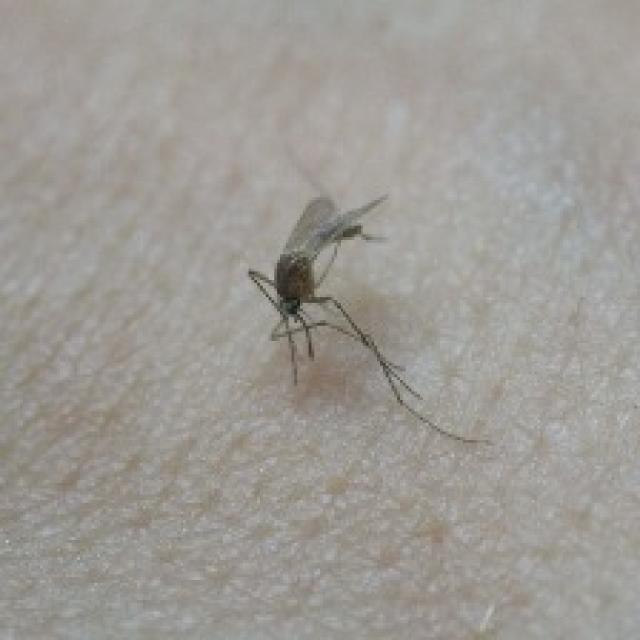culex: (243, 148, 491, 446)
